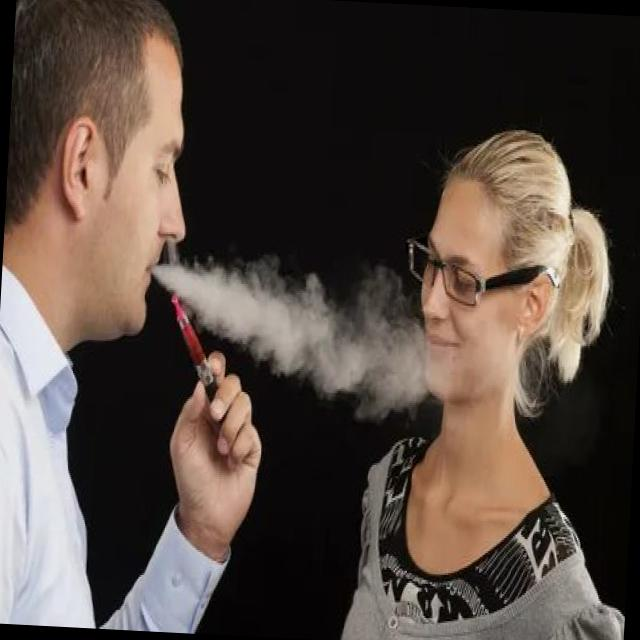smoke: (160, 284, 231, 427)
